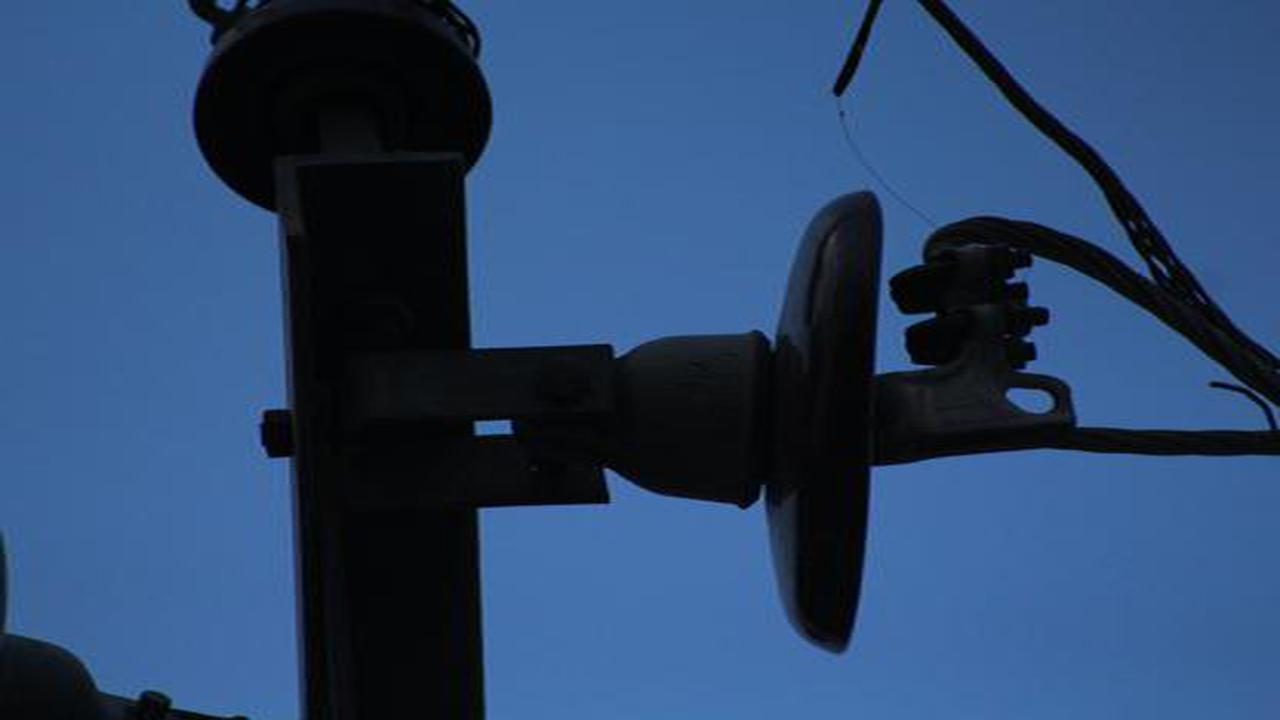insulator_disc: (608, 179, 923, 663)
